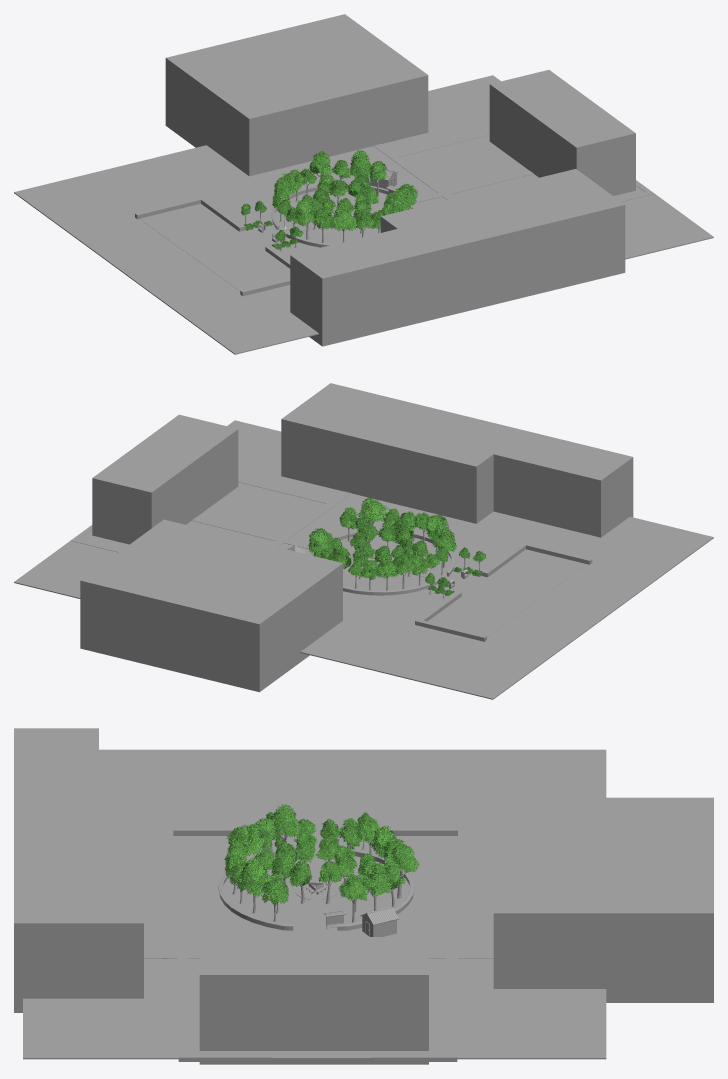
Rendered from School_Park_3.fbx.
3 views of the same model, one above another, from view 1: azimuth 30°, elevation 25°; view 2: azimuth 150°, elevation 25°; view 3: azimuth 270°, elevation 25° (orthographic). The views are drawn at different scales.
Parts seen in each view (by area): view 1: Ground, pCube16, pCube15, pCube14, Main_Path, pCube17, pCube18, pCube1, Tree_19_Leaf69; view 2: Ground, pCube16, pCube15, pCube14, Main_Path, pCube18, pCube17, pCube1, Tree_7_Leaf78; view 3: Ground, pCube15, pCube16, pCube14, Main_Path, pCube1, Tree_7_Leaf78, pCube17, Tree_6_Leaf69, pCube18, Tree_11_group3_Leaf42, Tree_19_Leaf69 (+3 smaller).
Boxes of the visible parts, x1,y1,x2,y2 form: Ground: (14,75,713,354); pCube16: (290,169,625,346); pCube15: (165,14,428,176); pCube14: (489,70,635,195); Main_Path: (140,131,653,291); pCube17: (135,196,245,231); pCube18: (240,245,290,296); pCube1: (271,183,415,247); Tree_19_Leaf69: (294,199,319,239); Ground: (14,420,713,699); pCube16: (281,383,633,537); pCube15: (80,519,342,692); pCube14: (92,414,238,544); Main_Path: (70,478,586,637); pCube18: (481,542,592,577); pCube17: (415,591,486,641); pCube1: (310,530,455,595); Tree_7_Leaf78: (356,497,388,539); Ground: (23,749,606,1059); pCube15: (493,797,713,1002); pCube16: (14,728,143,1012); pCube14: (199,937,428,1064); Main_Path: (144,792,493,1061); pCube1: (218,847,414,930); Tree_7_Leaf78: (234,857,271,913); pCube17: (379,786,457,835); Tree_6_Leaf69: (360,861,392,910); pCube18: (173,786,246,835); Tree_11_group3_Leaf42: (384,843,419,898); Tree_19_Leaf69: (270,804,300,842).
Bounding box in the file's own units: 220 × 29.99 × 211.
